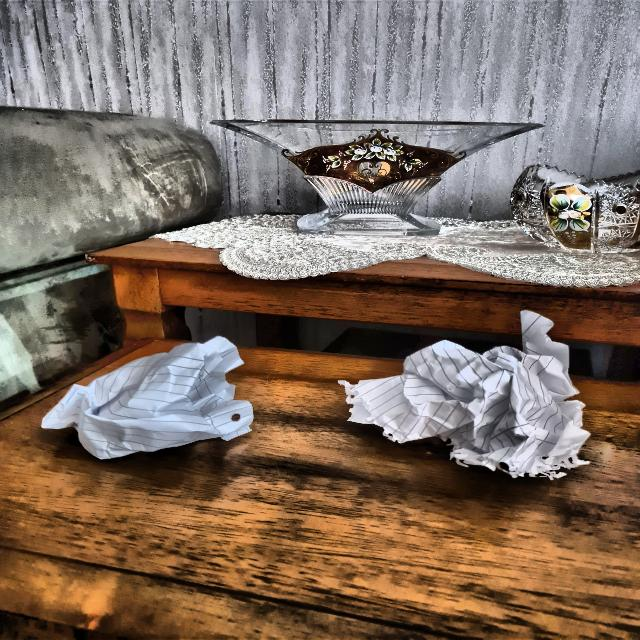Paper: (347, 310, 600, 477), (45, 330, 250, 458)
